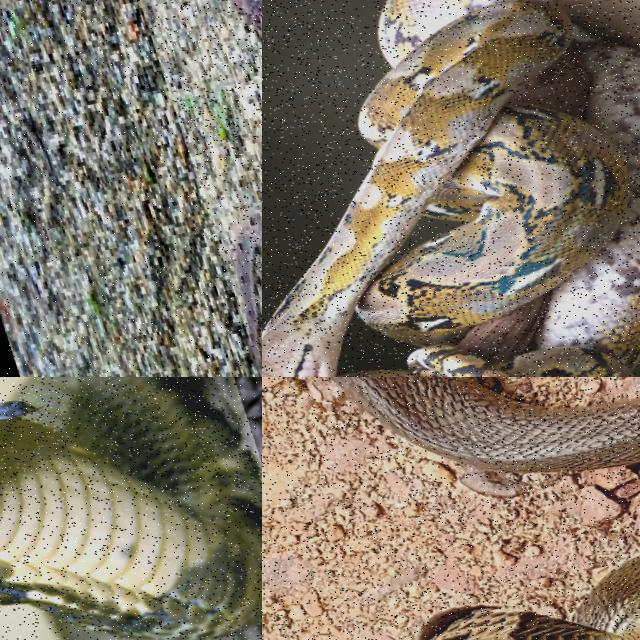Calloselasma rhodostoma: (233, 210, 261, 376)
Malayopython reticulatus: (262, 0, 639, 376)
Naja kaouthia: (331, 377, 639, 472)
Ophiophagus hannah: (0, 377, 261, 639)
snake: (262, 0, 639, 376), (0, 377, 261, 639), (331, 377, 639, 472), (233, 210, 261, 376)
